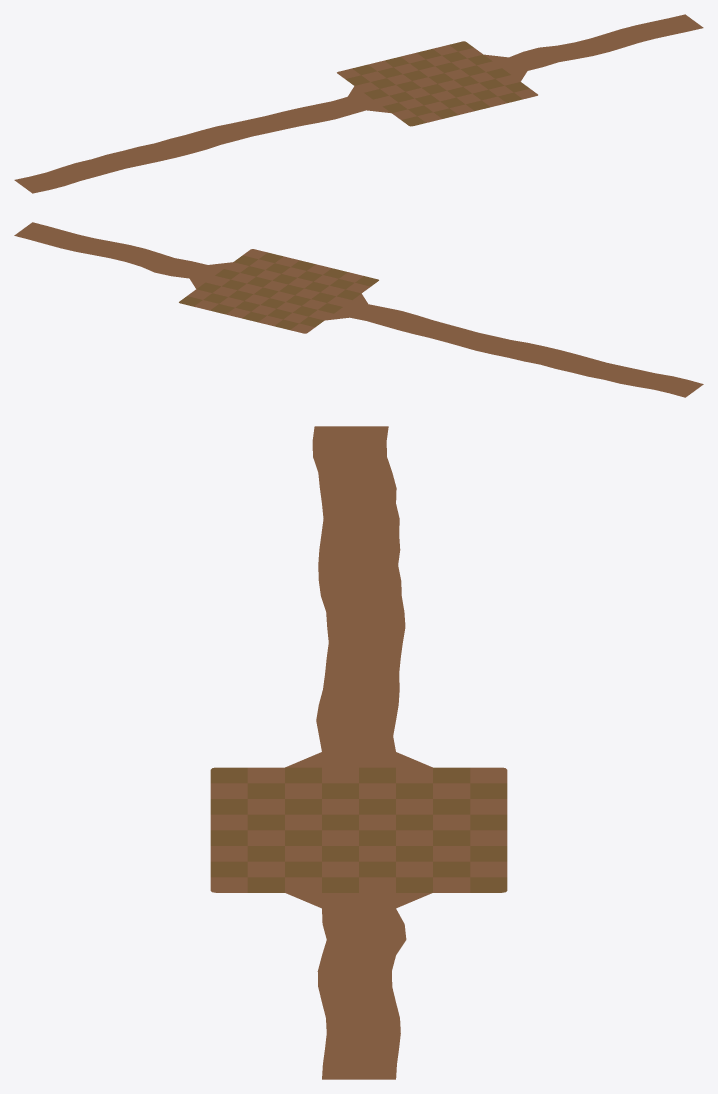
File: ground_road.fbx
The picture shows the model from 3 angles, top to bottom: view 1: azimuth 30°, elevation 25°; view 2: azimuth 150°, elevation 25°; view 3: azimuth 270°, elevation 25°; orthographic projection. The views are drawn at different scales.
Parts seen in each view (by area): view 1: Cube.009; view 2: Cube.009; view 3: Cube.009.
Boxes of the visible parts, <box> form: Cube.009: <box>14,14,703,193</box>; Cube.009: <box>14,222,703,397</box>; Cube.009: <box>210,426,507,1079</box>.
Size of the model in its own units: 1902 by 0.1068 by 365.
